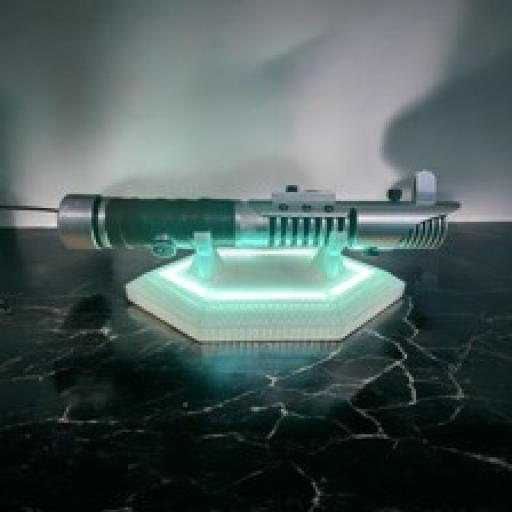lightsaber: (57, 171, 462, 258)
